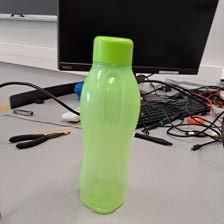bottle: (73, 35, 142, 215)
